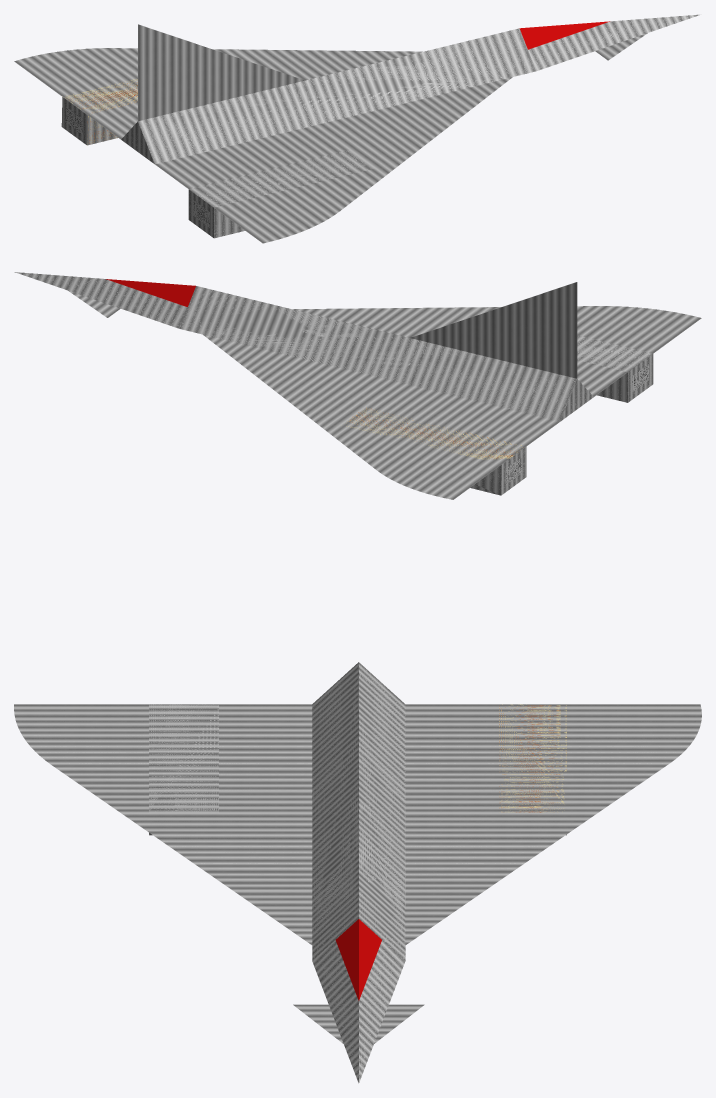
3 renders of one model, top to bottom at view 1: azimuth 30°, elevation 25°; view 2: azimuth 150°, elevation 25°; view 3: azimuth 270°, elevation 25°, orthographic. The views are drawn at different scales.
Parts seen in each view (by area): view 1: mesh1_mesh1-geometry; view 2: mesh1_mesh1-geometry; view 3: mesh1_mesh1-geometry.
Part boxes in pixels (x1=…): mesh1_mesh1-geometry: x1=14, y1=14, x2=701, y2=243; mesh1_mesh1-geometry: x1=14, y1=272, x2=701, y2=499; mesh1_mesh1-geometry: x1=14, y1=662, x2=701, y2=1083.
Size of the model in its own units: 0.7765 by 0.2084 by 0.5947.
